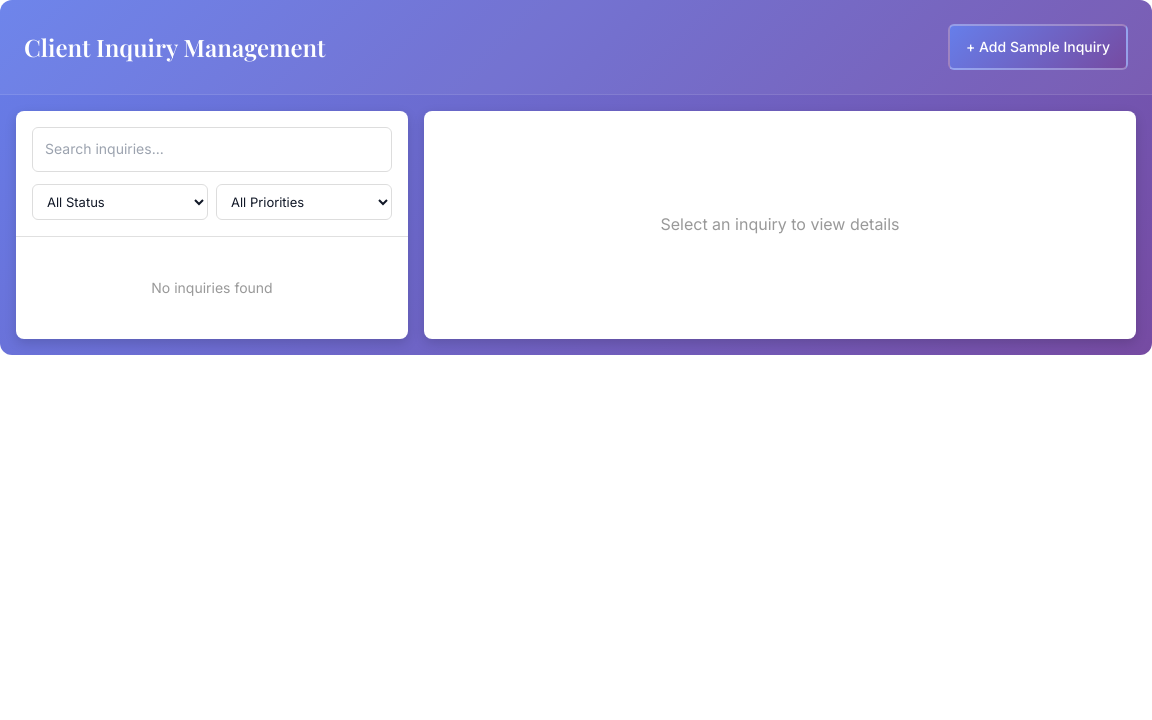
Scenario: InquiryManagement Component › Search Functionality › should show no results when search finds nothing
Click the button with test id "btn-add-inquiry". click: (1038, 47)
box: x1=948 y1=24 x2=1128 y2=70
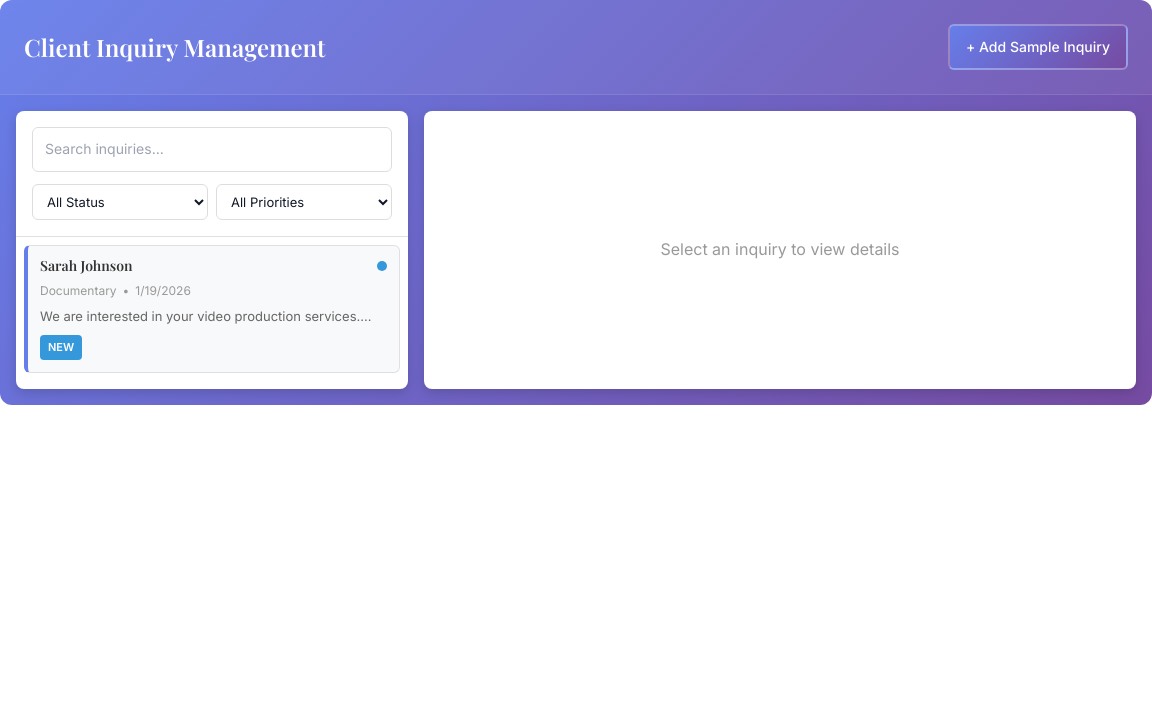
Click the button with test id "btn-add-inquiry". click: (1038, 47)
box: x1=948 y1=24 x2=1128 y2=70
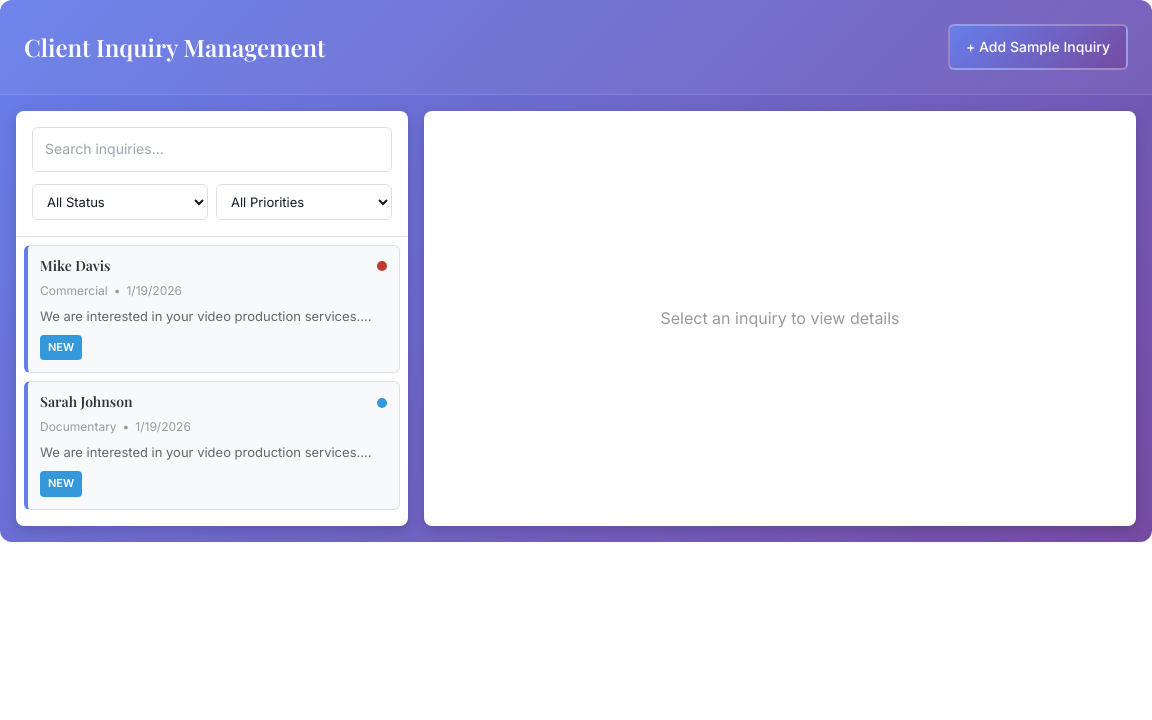
Click the button with test id "btn-add-inquiry". click: (1038, 47)
box: x1=948 y1=24 x2=1128 y2=70
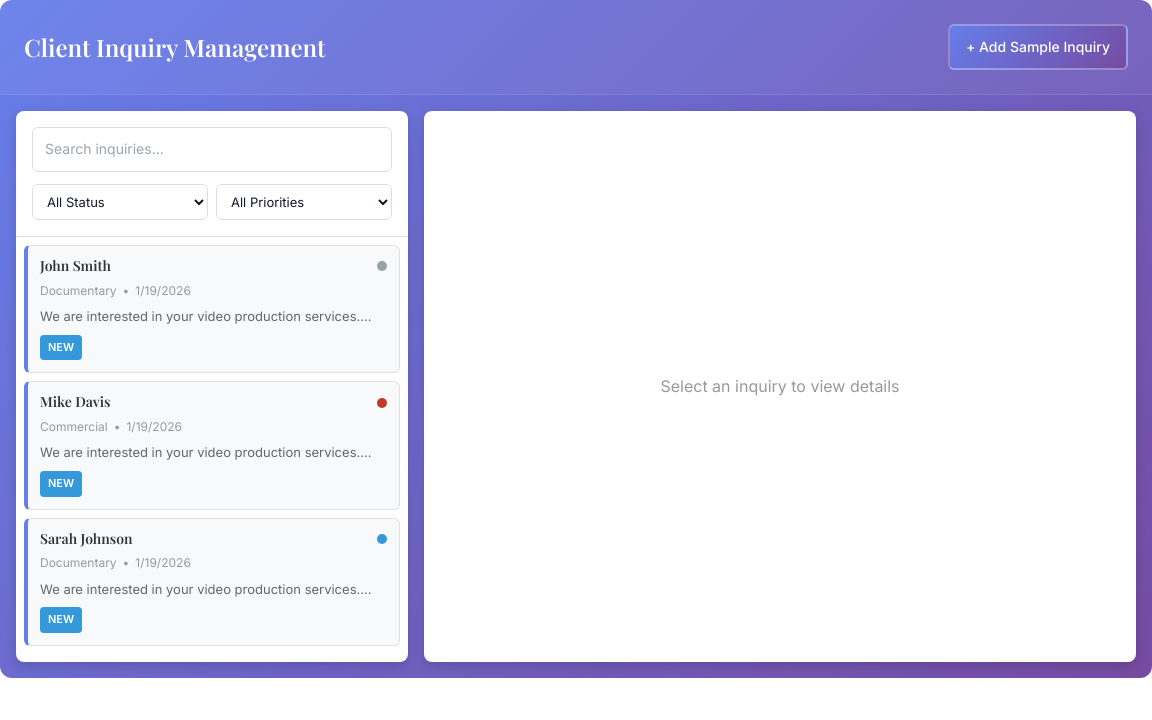
Type "NONEXISTENT_STRING_ZZZZZ" into the field with test id "search-inquiries". click: (212, 150)
box: x1=32 y1=127 x2=392 y2=172
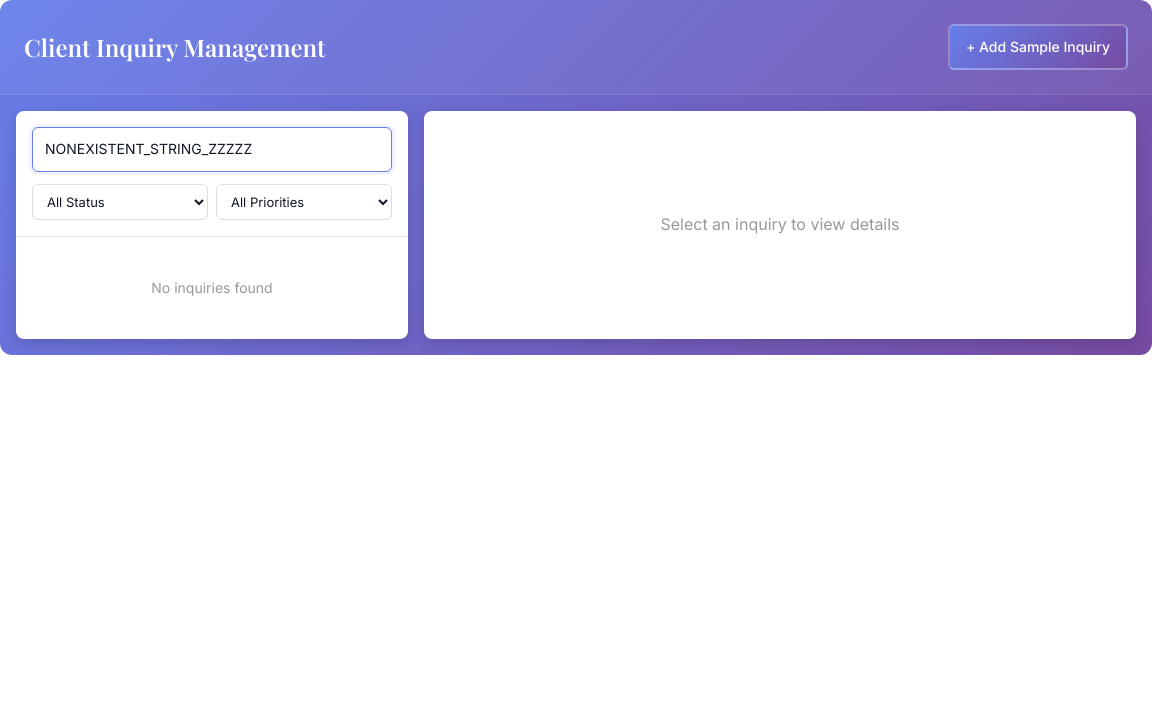
Expected: the text "No inquiries found" is shown, x1=151 y1=279 x2=273 y2=296
